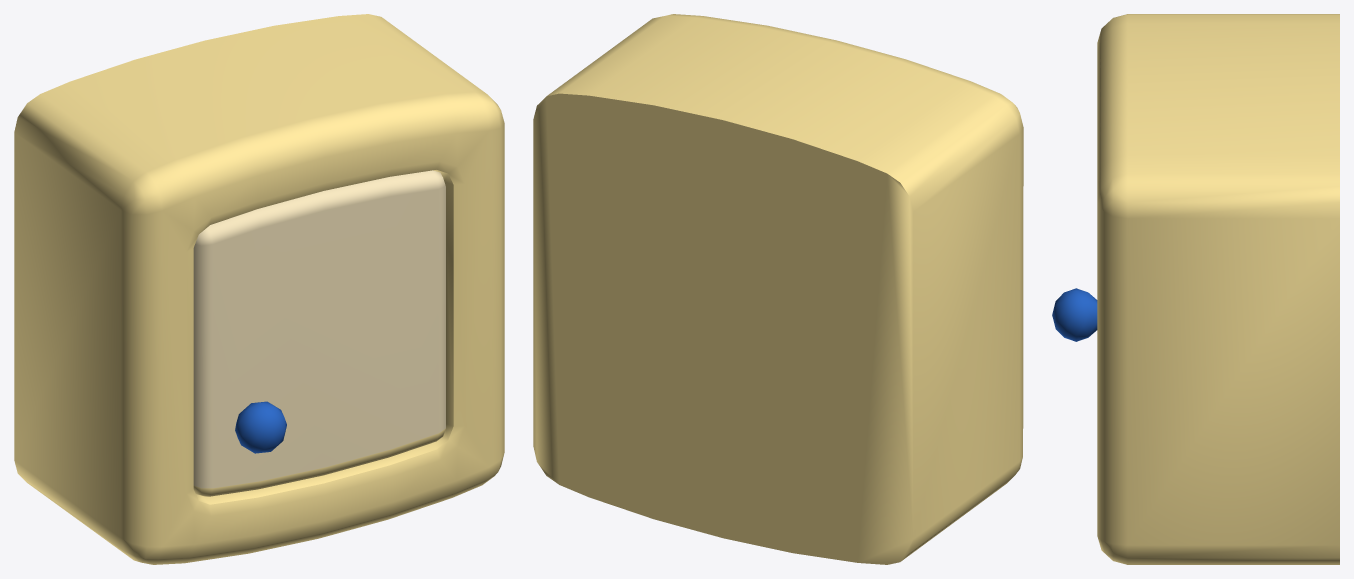
Rendered from armario_parede_1porta_campestre_azul_pacote.glb.
3 renders of one model, left to right at view 1: azimuth 30°, elevation 25°; view 2: azimuth 150°, elevation 25°; view 3: azimuth 270°, elevation 25°, orthographic.
Parts seen in each view (by area): view 1: armario_parede_1porta_campestre_azul_pacote, porta_1; view 2: armario_parede_1porta_campestre_azul_pacote; view 3: armario_parede_1porta_campestre_azul_pacote, porta_1.
Part boxes in pixels (left/top/right/bottom): armario_parede_1porta_campestre_azul_pacote: left=14, top=14, right=504, bottom=564; porta_1: left=193, top=170, right=445, bottom=496; armario_parede_1porta_campestre_azul_pacote: left=533, top=14, right=1023, bottom=564; armario_parede_1porta_campestre_azul_pacote: left=1097, top=14, right=1339, bottom=564; porta_1: left=1052, top=288, right=1097, bottom=341.
Bounding box in the file's own units: 0.5776 × 0.6075 × 0.3799.
Materials: 1 (1 with a texture image).
